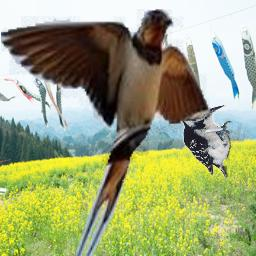Swallow: (1, 9, 210, 256)
Woodpecker: (180, 105, 233, 179)
